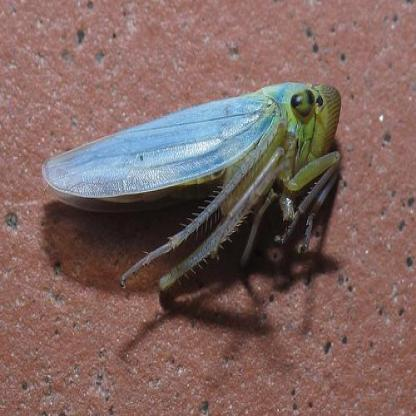Green-Leafhopper: (43, 76, 347, 307)
